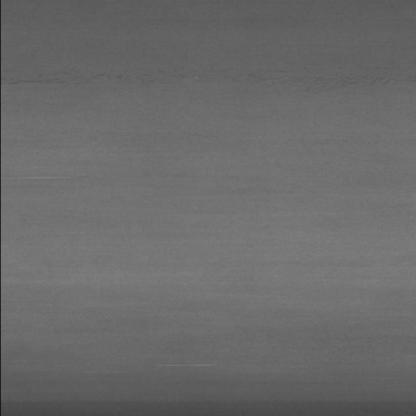silk_spot: (18, 161, 100, 189)
